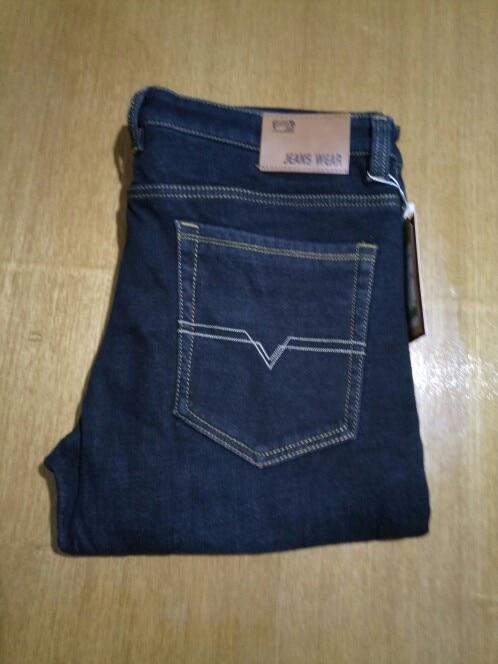jeans: (49, 76, 403, 535)
